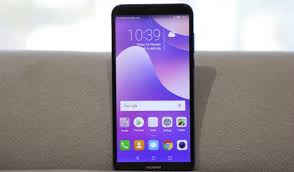huawei: (108, 1, 194, 172)
